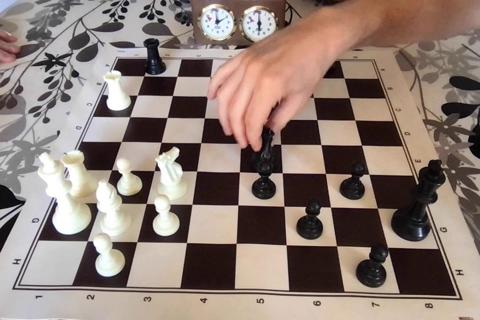xcorner: (199, 72, 212, 84), (268, 91, 280, 104), (233, 91, 245, 104), (195, 113, 207, 126), (192, 138, 204, 151), (152, 138, 164, 151), (275, 167, 287, 180), (232, 167, 244, 180), (231, 200, 243, 213), (331, 240, 344, 252), (281, 239, 293, 252), (81, 238, 93, 251), (333, 72, 345, 84), (300, 72, 312, 84), (266, 72, 278, 84), (233, 72, 245, 84), (166, 72, 178, 84), (133, 72, 145, 84), (339, 92, 351, 104), (303, 92, 315, 104), (197, 91, 209, 103), (162, 91, 174, 103), (127, 91, 139, 103), (345, 114, 357, 126), (308, 114, 320, 126), (270, 114, 282, 126), (232, 114, 244, 126), (157, 113, 169, 125), (120, 113, 132, 125), (353, 139, 365, 151), (312, 139, 324, 151), (272, 139, 284, 151), (232, 139, 244, 151), (112, 138, 124, 150), (361, 168, 373, 180), (318, 168, 330, 180), (189, 167, 201, 179), (146, 167, 158, 179), (103, 167, 115, 179), (371, 201, 383, 213), (324, 201, 336, 213), (278, 201, 290, 213), (185, 200, 197, 212), (139, 200, 151, 212), (93, 200, 105, 212), (382, 240, 394, 252), (231, 239, 243, 251), (181, 239, 193, 251), (131, 239, 143, 251)
